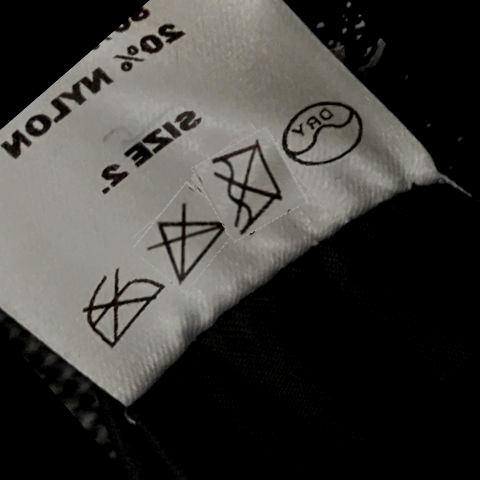DN_bleach: (150, 208, 223, 284)
DN_iron: (79, 263, 163, 354)
DN_wash: (211, 140, 285, 235)
dry_clean: (281, 96, 367, 165)
